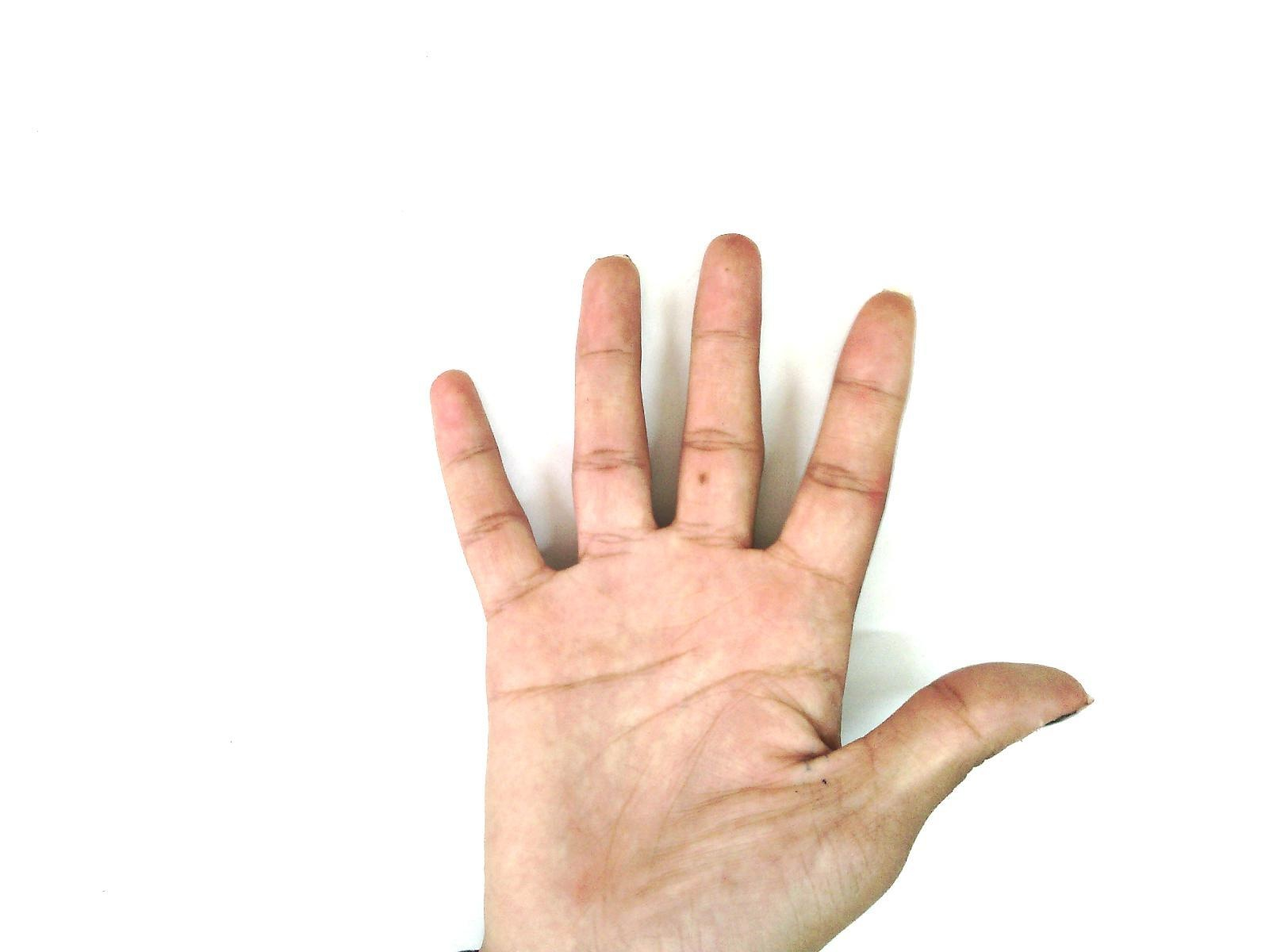open_palm: (425, 232, 1095, 951)
